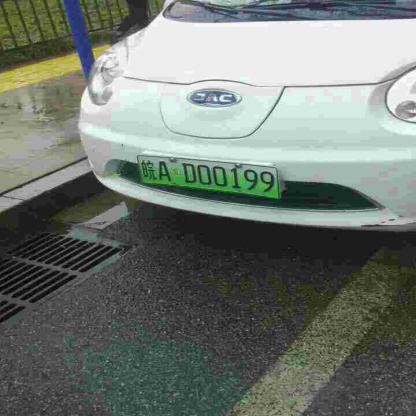lp: (134, 154, 278, 198)
